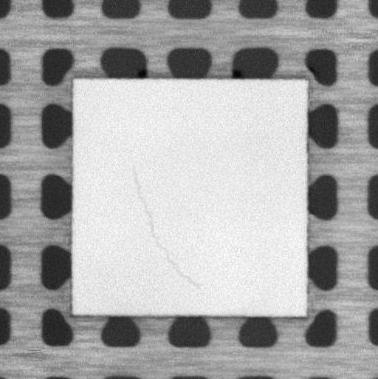DIE_CRACK: (129, 168, 202, 293)
